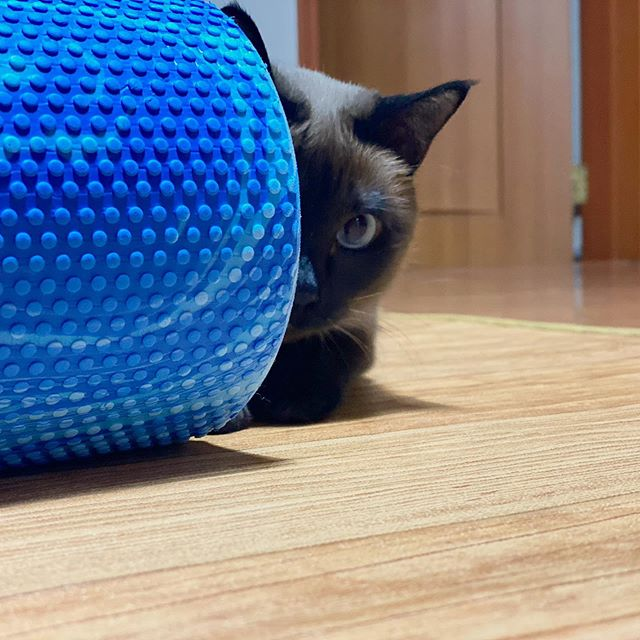cat: (261, 12, 480, 340)
